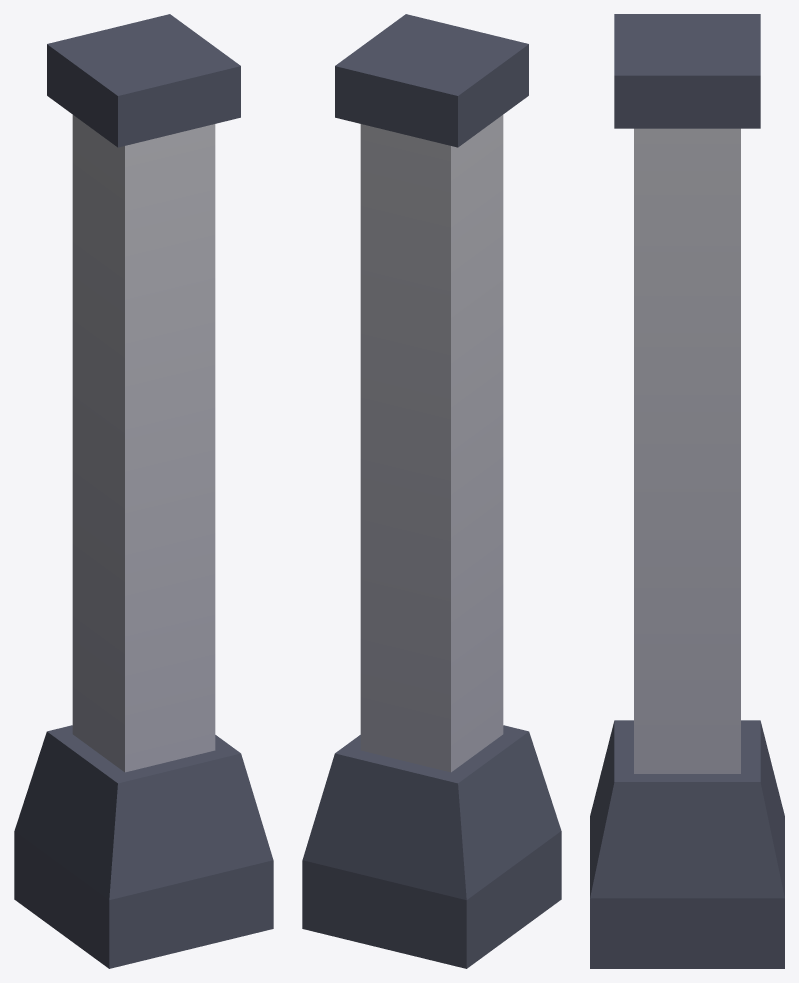
The model's file is bridge-pillar.glb.
3 renders of one model, left to right at view 1: azimuth 30°, elevation 25°; view 2: azimuth 150°, elevation 25°; view 3: azimuth 270°, elevation 25°, orthographic. The views are drawn at different scales.
Visible parts, largest first — view 1: bridge-pillar; view 2: bridge-pillar; view 3: bridge-pillar.
Part boxes in pixels (x1,y1,x2,y2): bridge-pillar: (14,14,273,968); bridge-pillar: (302,14,561,968); bridge-pillar: (590,14,784,968).
Size of the model in its own units: 0.1 by 0.5 by 0.1.
